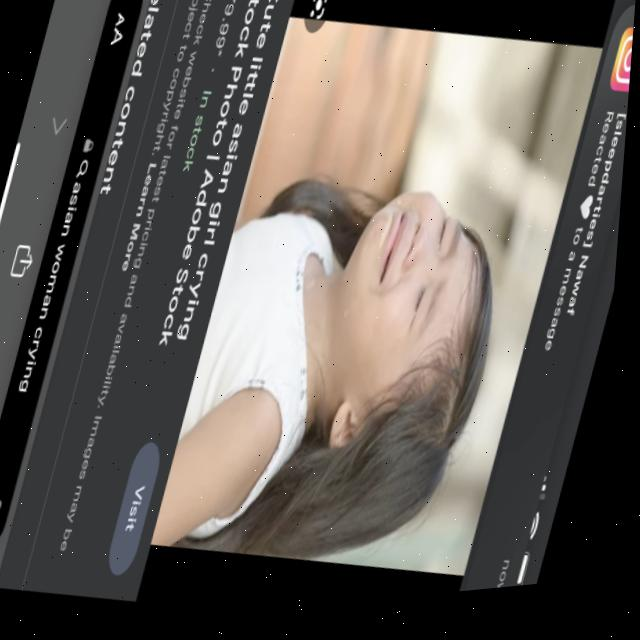sad: (293, 214, 510, 482)
